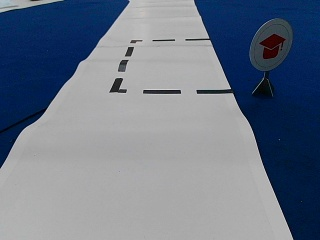school: (250, 18, 291, 69)
